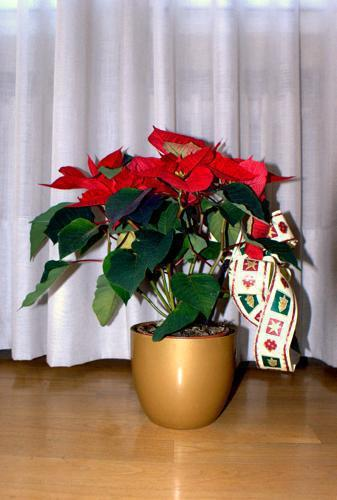Matera: (30, 116, 307, 434)
